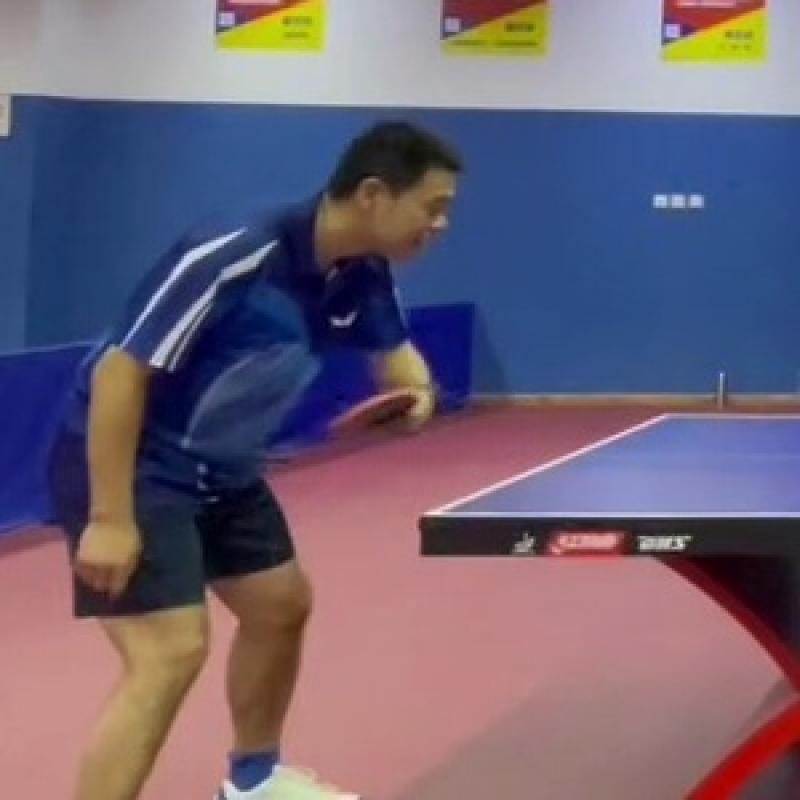bats: (319, 352, 434, 460)
